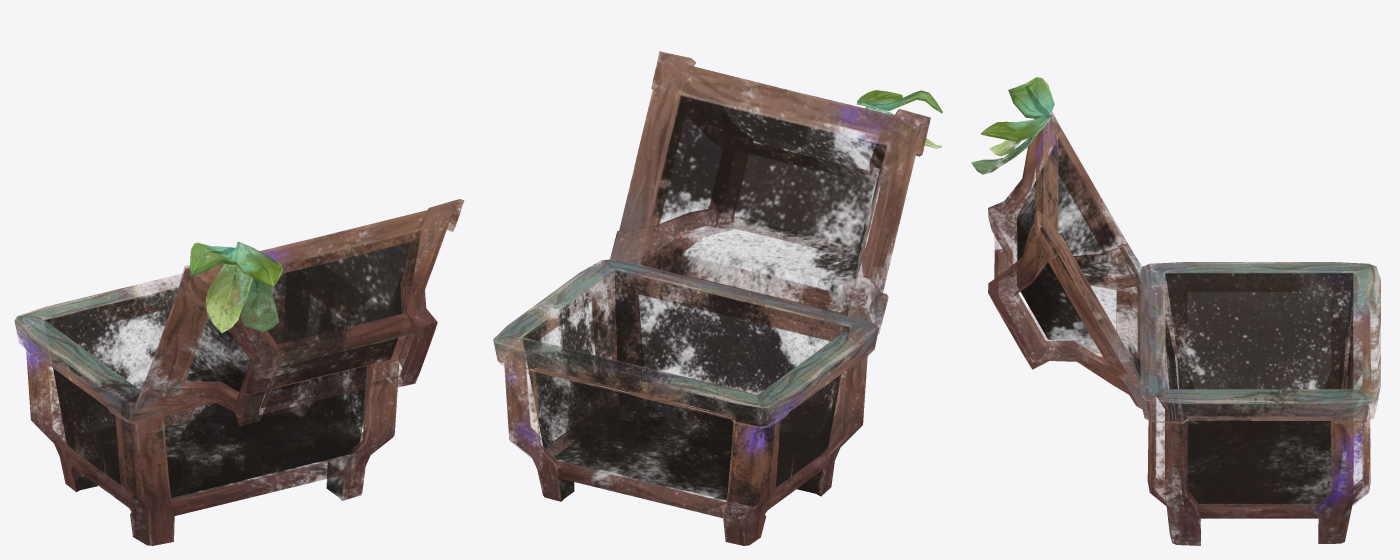
The model's file is PRP_Chest_Gold.glb.
3 views of the same model, side by side, from view 1: azimuth 30°, elevation 25°; view 2: azimuth 150°, elevation 25°; view 3: azimuth 270°, elevation 25° (orthographic). The views are drawn at different scales.
Parts seen in each view (by area): view 1: polySurface40_lambert1_0; view 2: polySurface40_lambert1_0; view 3: polySurface40_lambert1_0.
Part boxes in pixels (x1,y1,x2,y2): polySurface40_lambert1_0: (14, 199, 464, 545); polySurface40_lambert1_0: (493, 51, 942, 545); polySurface40_lambert1_0: (971, 77, 1380, 545).
Bounding box in the file's own units: 1.49 × 1.93 × 1.52.
Materials: 1 (1 with a texture image).
